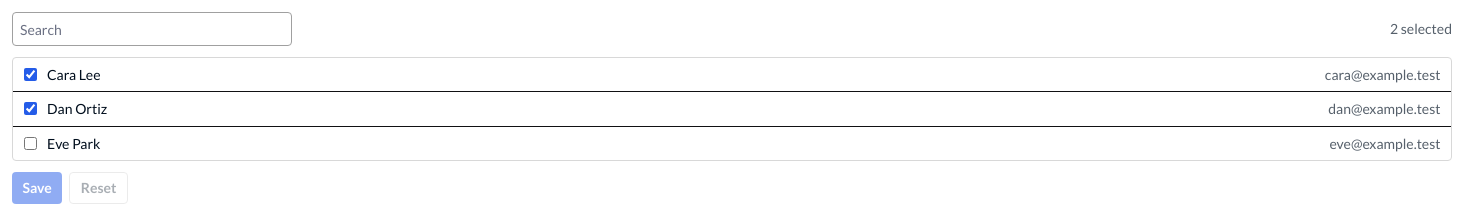
Test: GrantsReconcile › does not offer Save when the draft equals the server set, and Reset restores it
Step 1. Click the checkbox labelled "Cara Lee cara@example.test" → (30, 74), box [24,68,36,81]
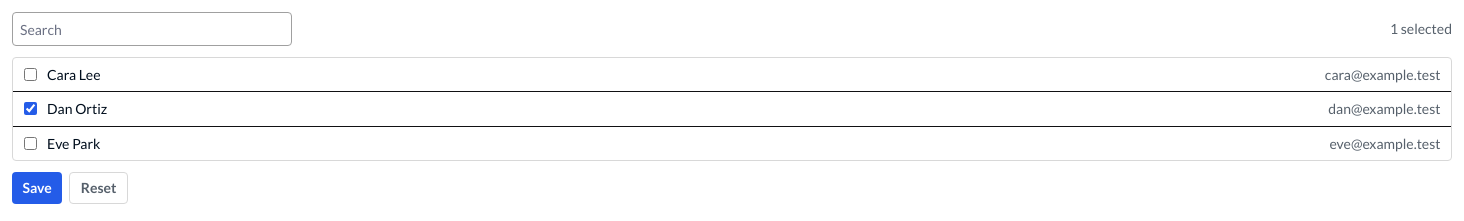
Expected: the button "Save" is enabled, [12,172,62,204]
Step 2. Click the button "Reset" → (99, 188), box [69,172,128,204]
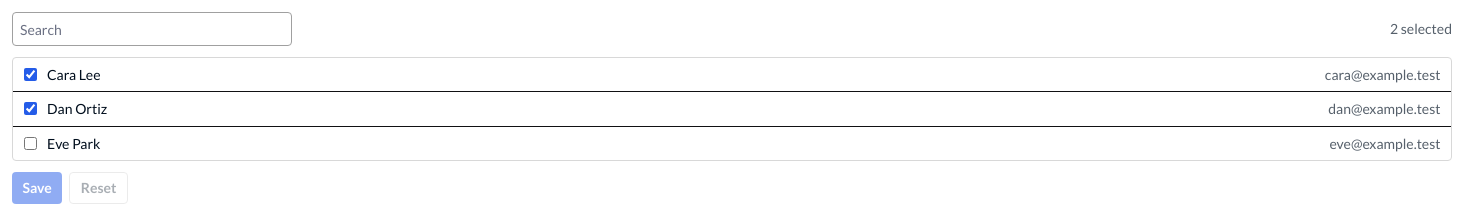
Expected: the checkbox labelled "Cara Lee cara@example.test" is checked, [24,68,36,81]
Expected: the button "Save" is disabled, [12,172,62,204]
Expected: the text "2 selected" is shown, [1390,19,1452,39]
